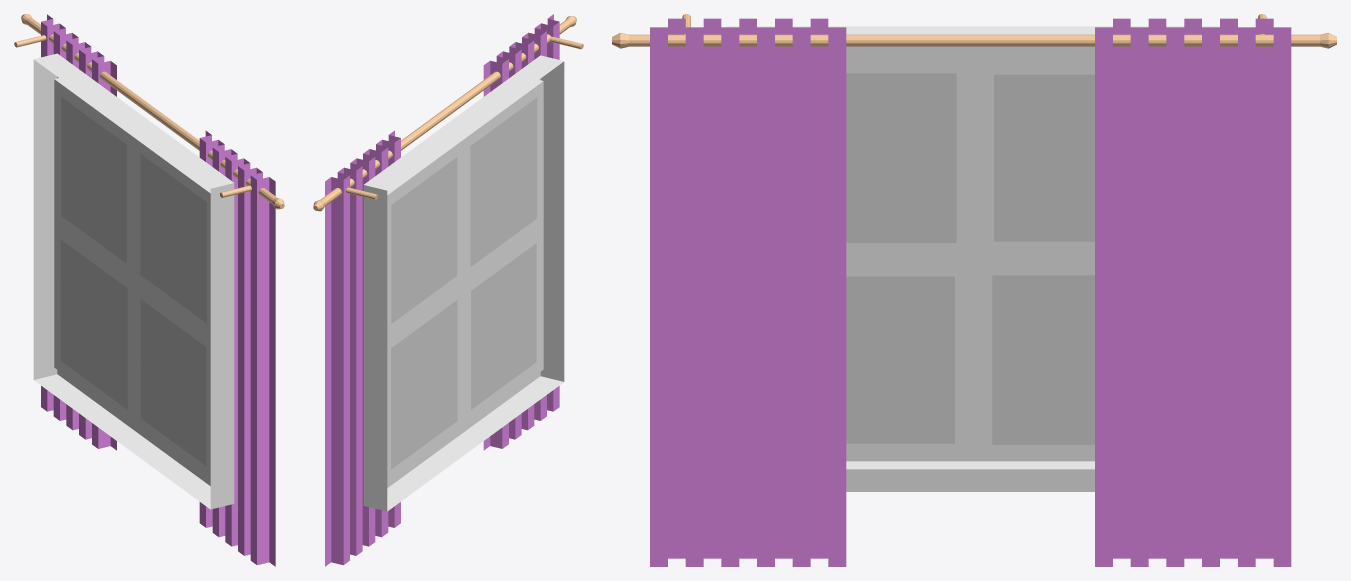
The model's file is window-and-curtains.fbx.
3 renders of one model, left to right at view 1: azimuth 30°, elevation 25°; view 2: azimuth 150°, elevation 25°; view 3: azimuth 270°, elevation 25°, orthographic. The views are drawn at different scales.
Parts seen in each view (by area): view 1: Cube.006, Plane.002, Plane.001, Cylinder.005; view 2: Cube.006, Plane.001, Plane.002, Cylinder.005; view 3: Cube.006, Plane.002, Plane.001, Cylinder.005.
Boxes of the visible parts, x1,y1,x2,y2 form: Cube.006: (33, 53, 234, 509); Plane.002: (199, 130, 275, 566); Plane.001: (41, 14, 116, 450); Cylinder.005: (14, 14, 284, 209); Cube.006: (363, 55, 564, 511); Plane.001: (325, 130, 400, 566); Plane.002: (483, 14, 559, 450); Cylinder.005: (313, 16, 583, 211); Cube.006: (726, 26, 1219, 491); Plane.002: (650, 18, 846, 566); Plane.001: (1095, 18, 1291, 566); Cylinder.005: (612, 14, 1336, 48).
Bounding box in the file's own units: 38.1 × 339 × 413.
